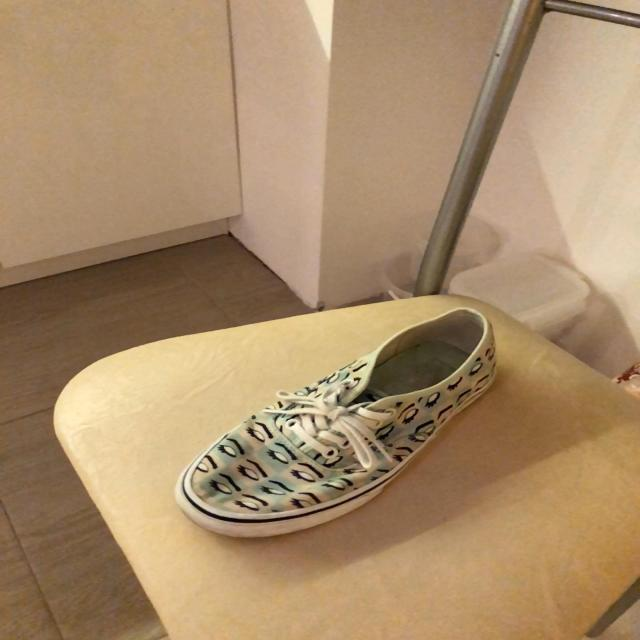shoe: (174, 313, 497, 543)
